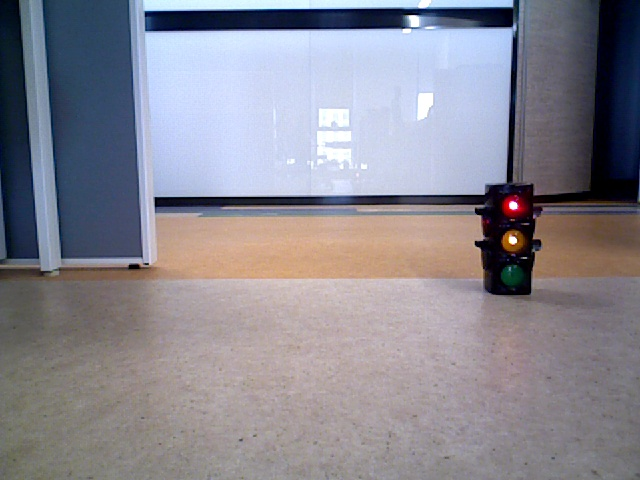red: (489, 188, 528, 290)
